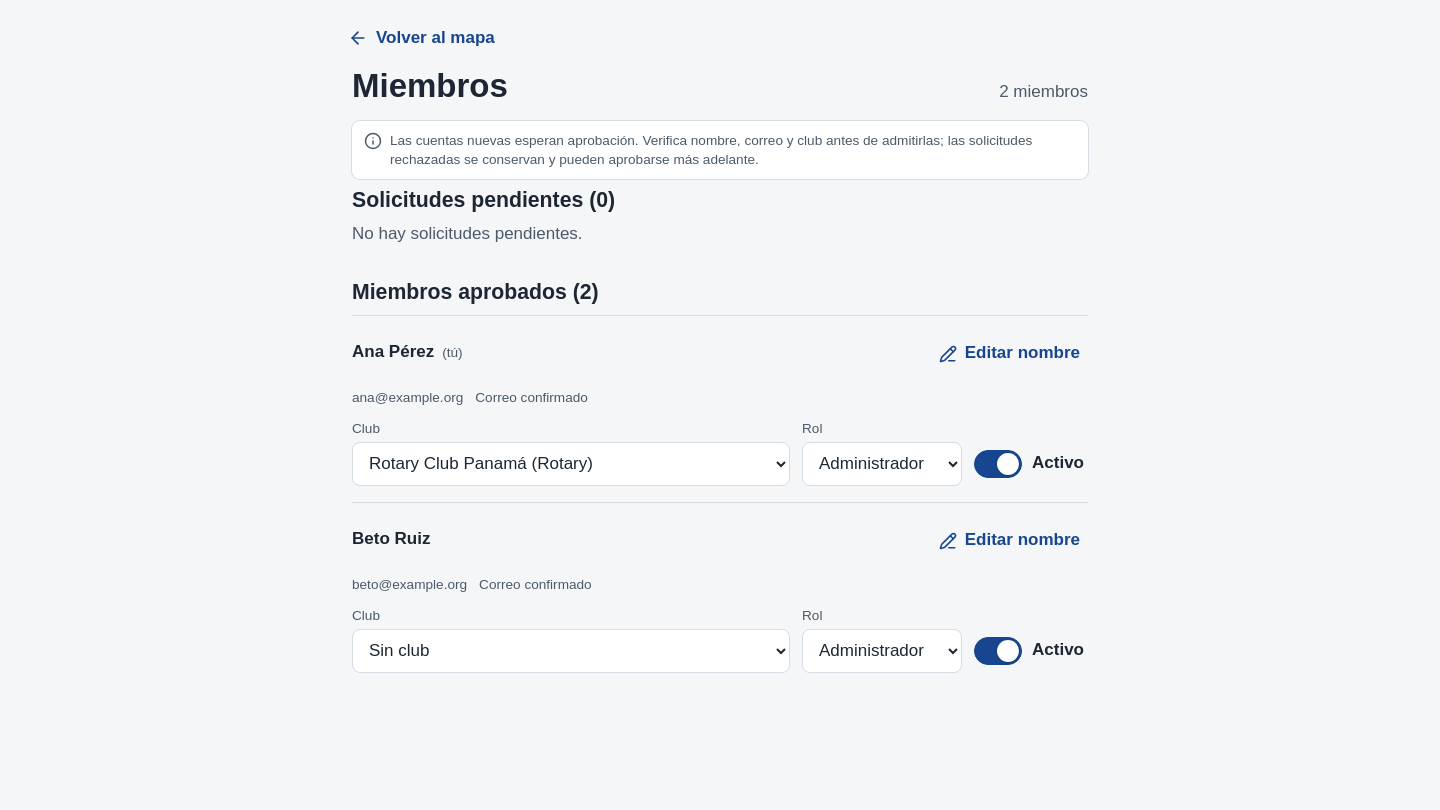
Scenario: MembersAdmin › impide que el admin se quite el rol
Select "Miembro" in the 1st dropdown labelled "Rol" at (882, 464), box [802,442,962,486]
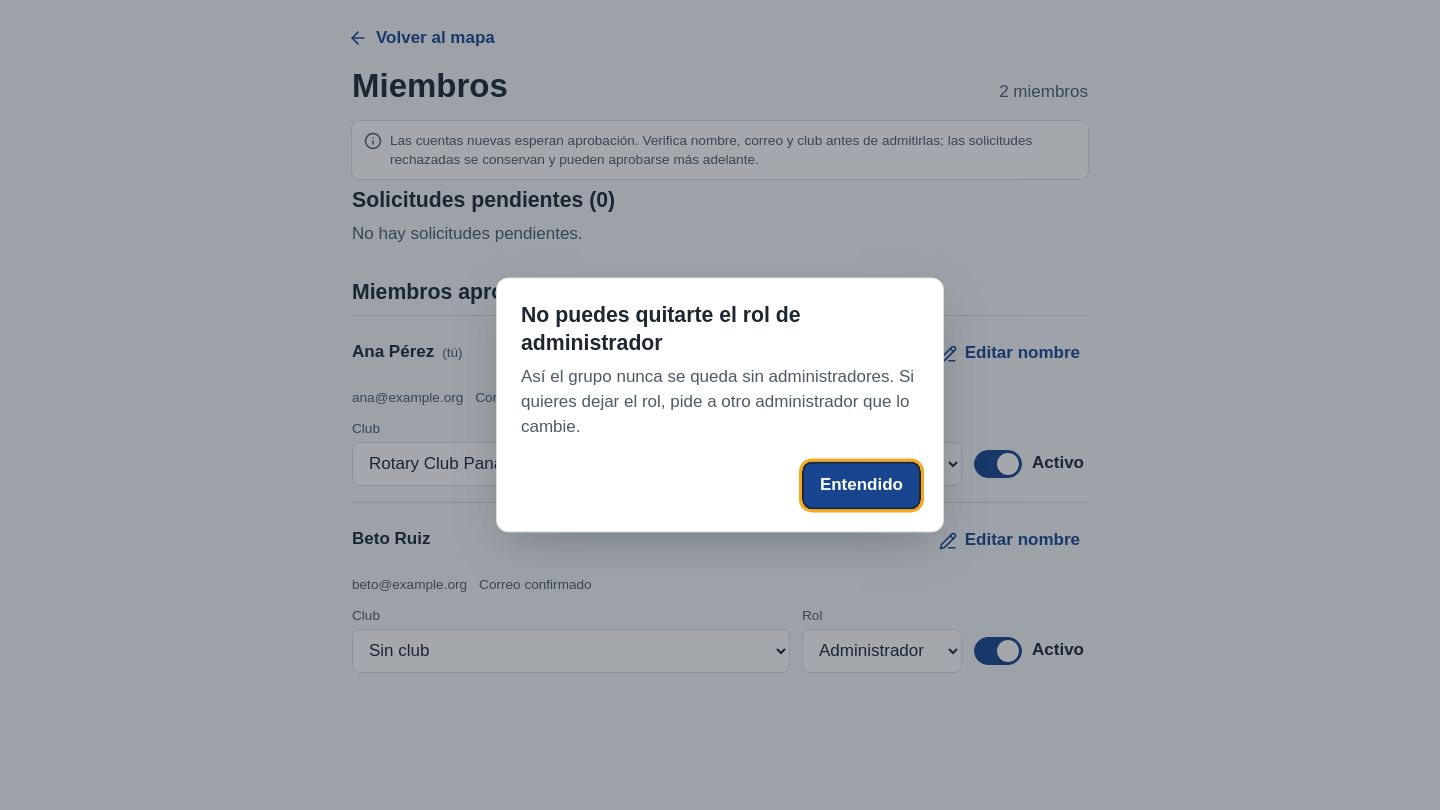
Check: the heading "No puedes quitarte el rol de administrador" is shown, box [521,303,801,355]
